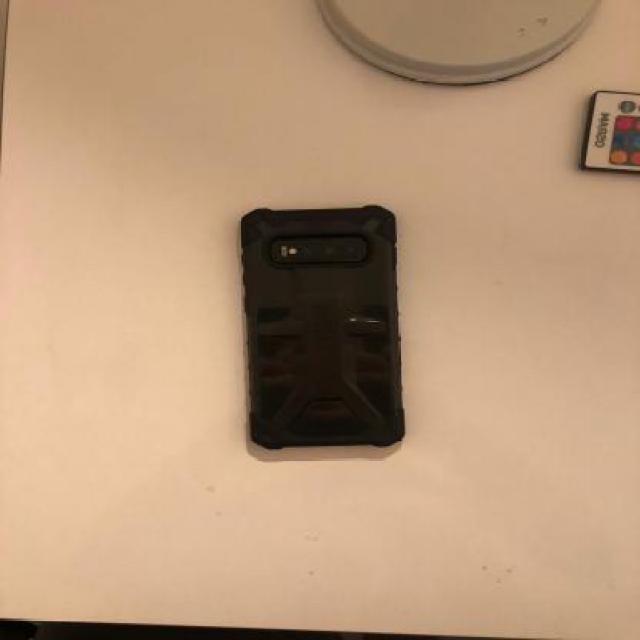phone: (242, 204, 405, 448)
